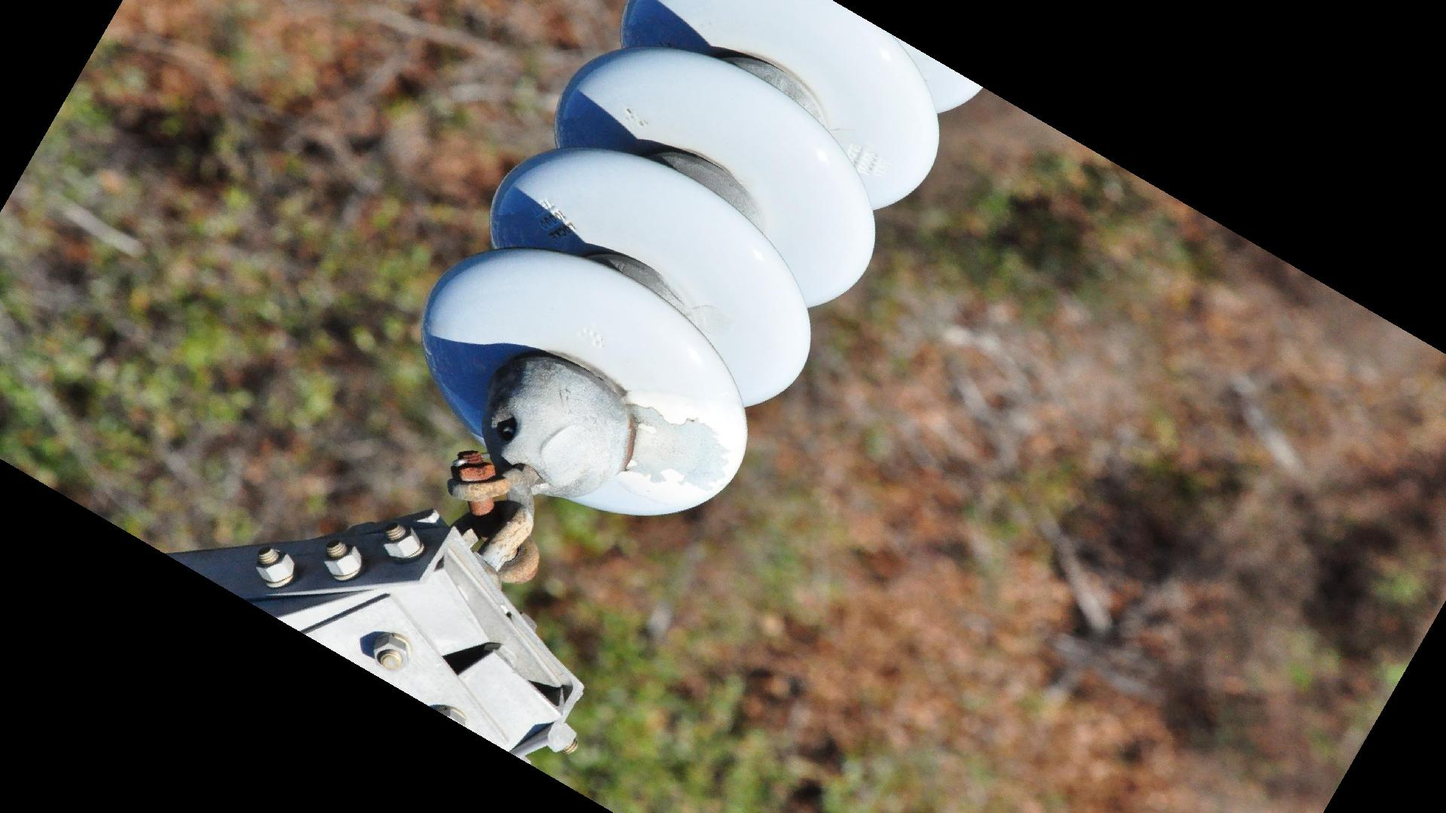insulator: (414, 1, 986, 527)
insulator_flashover: (625, 400, 734, 494)
